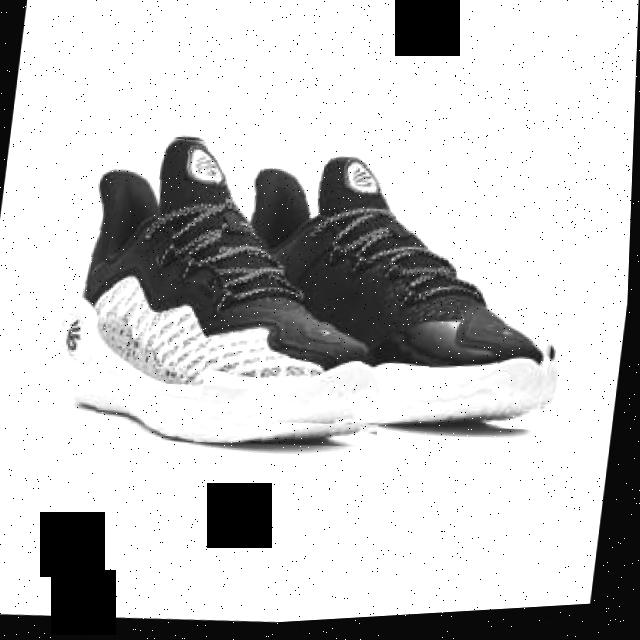shoe: (34, 118, 415, 468), (201, 137, 587, 453)
